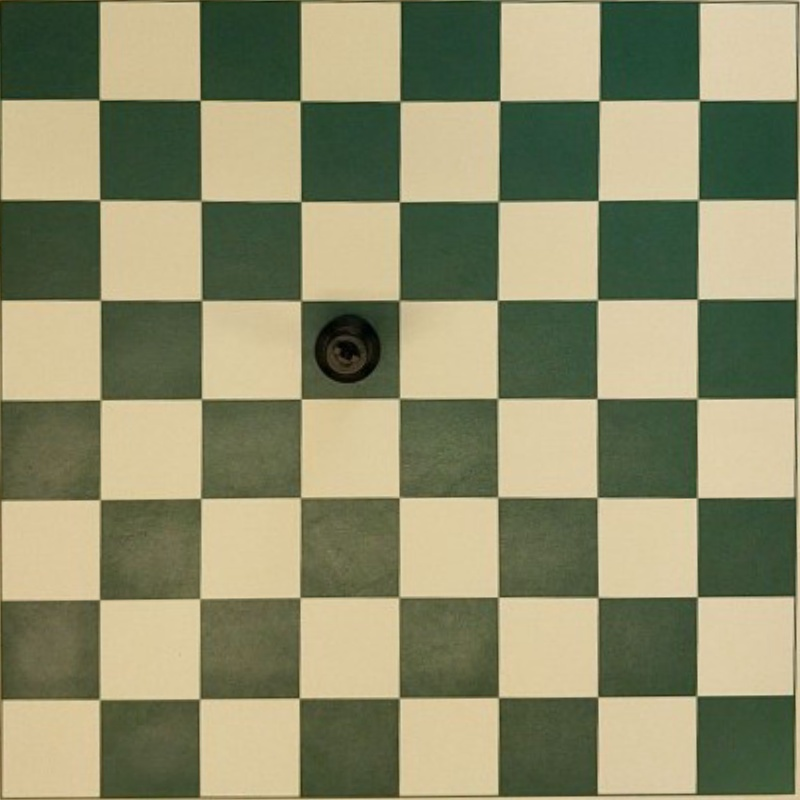black-king: (315, 314, 380, 382)
